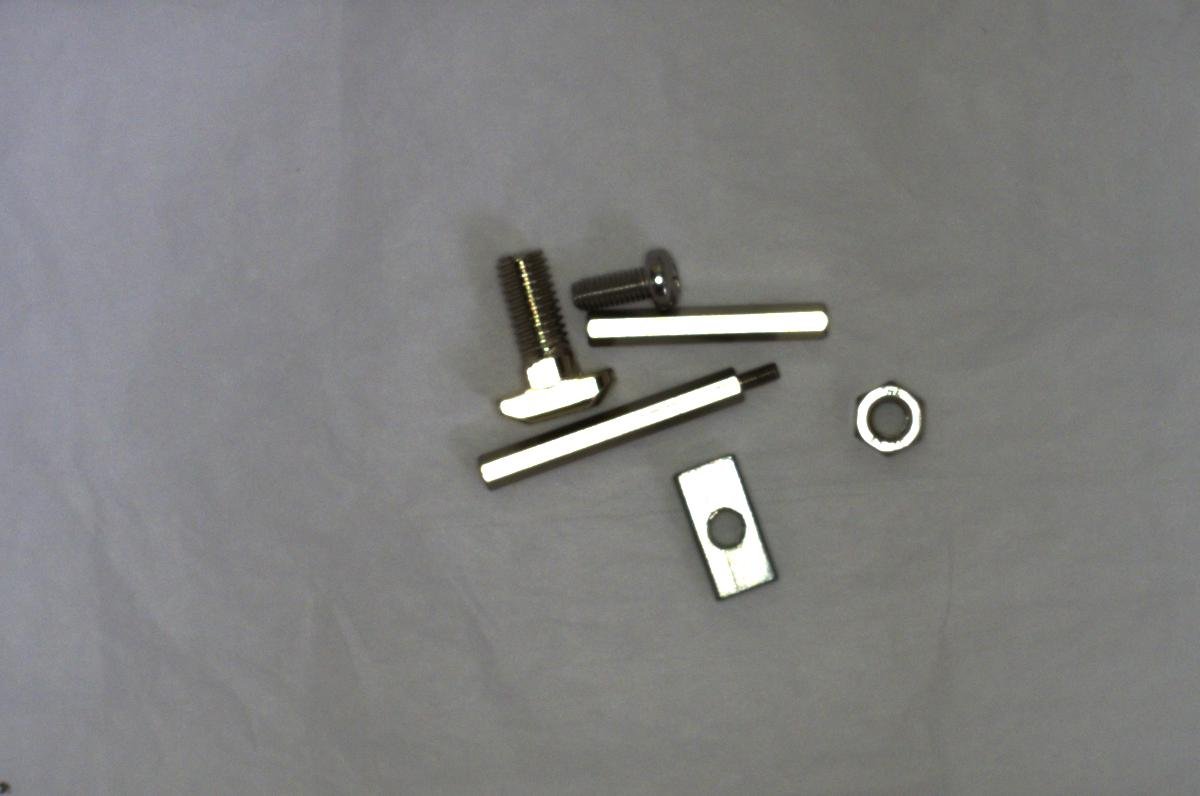Double hexagonal column: (581, 298, 838, 350)
Hexagon nut: (846, 370, 935, 463)
Hexagonal steel column: (478, 355, 781, 476)
Rectangular nut: (671, 448, 785, 603)
Round head screw: (565, 245, 690, 316)
T-shaped screw: (478, 235, 608, 419)
